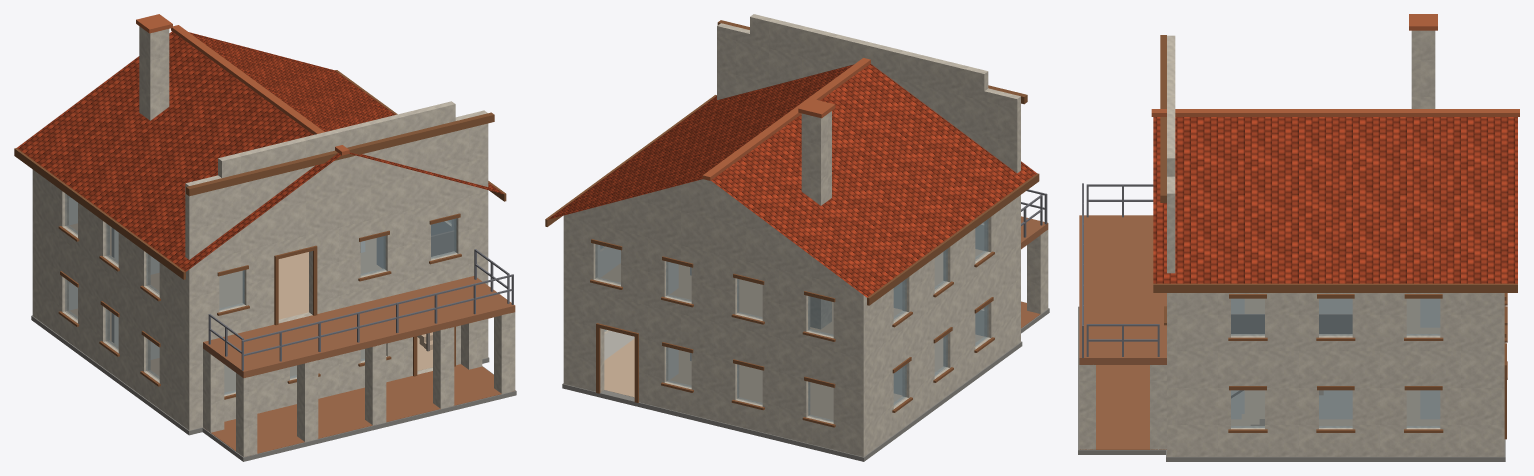
Rendered from cr-mission-house.towns-v1.lod0.glb.
3 renders of one model, left to right at view 1: azimuth 30°, elevation 25°; view 2: azimuth 150°, elevation 25°; view 3: azimuth 270°, elevation 25°, orthographic. The views are drawn at different scales.
Parts seen in each view (by area): view 1: cr-mission-house; view 2: cr-mission-house; view 3: cr-mission-house.
Part boxes in pixels (bbox=[...]): cr-mission-house: bbox=[14, 14, 516, 461]; cr-mission-house: bbox=[545, 14, 1049, 461]; cr-mission-house: bbox=[1078, 14, 1519, 461].
Size of the model in its own units: 11.88 by 10.74 by 13.08.
Materials: 6 (2 with a texture image).
